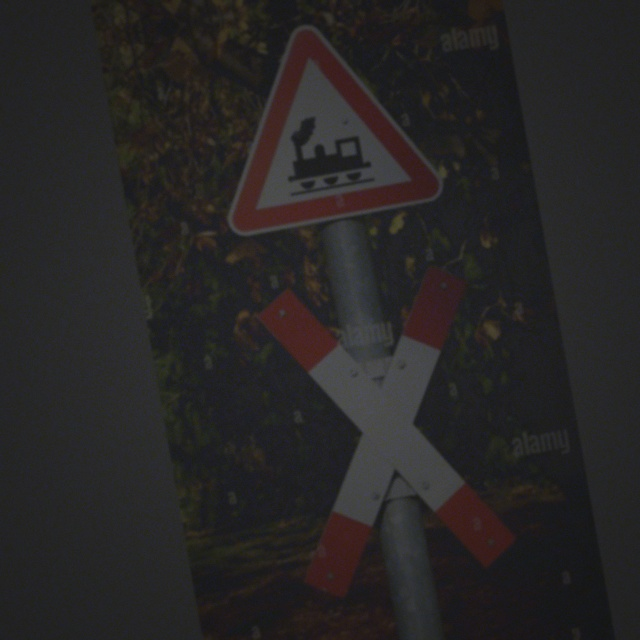Unguarded_Level_Crossing: (220, 31, 445, 235)
